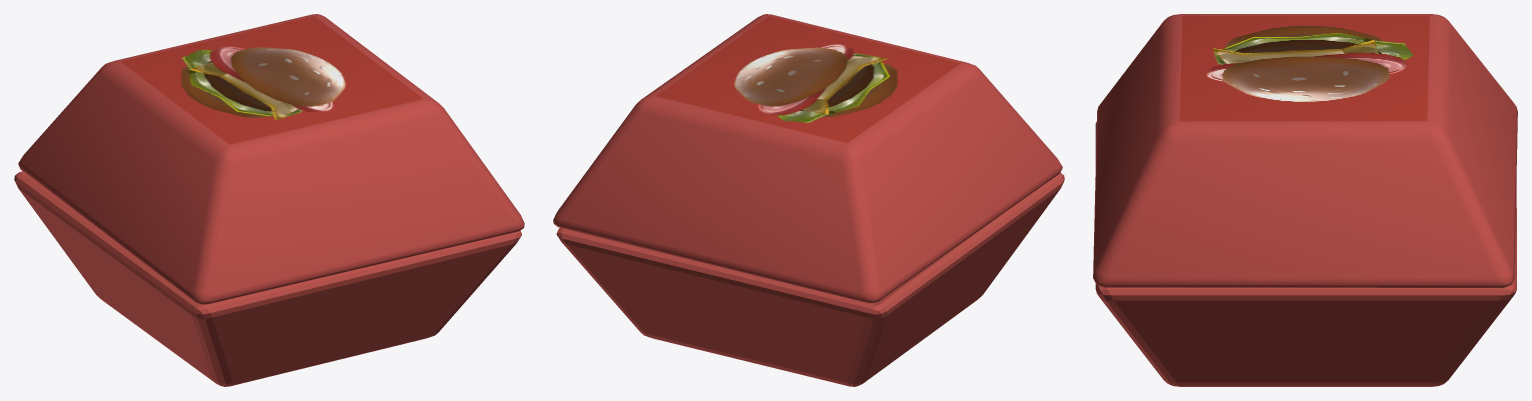
Rendered from burgernew4.fbx.
3 renders of one model, left to right at view 1: azimuth 30°, elevation 25°; view 2: azimuth 150°, elevation 25°; view 3: azimuth 270°, elevation 25°, orthographic. The views are drawn at different scales.
Visible parts, largest first — view 1: kap2.001; view 2: kap2.001; view 3: kap2.001.
Part boxes in pixels (bbox=[...]): kap2.001: bbox=[14, 14, 524, 386]; kap2.001: bbox=[553, 14, 1064, 386]; kap2.001: bbox=[1093, 14, 1517, 386].
Bounding box in the file's own units: 398 × 396 × 275.
3 materials, 1 textured.
